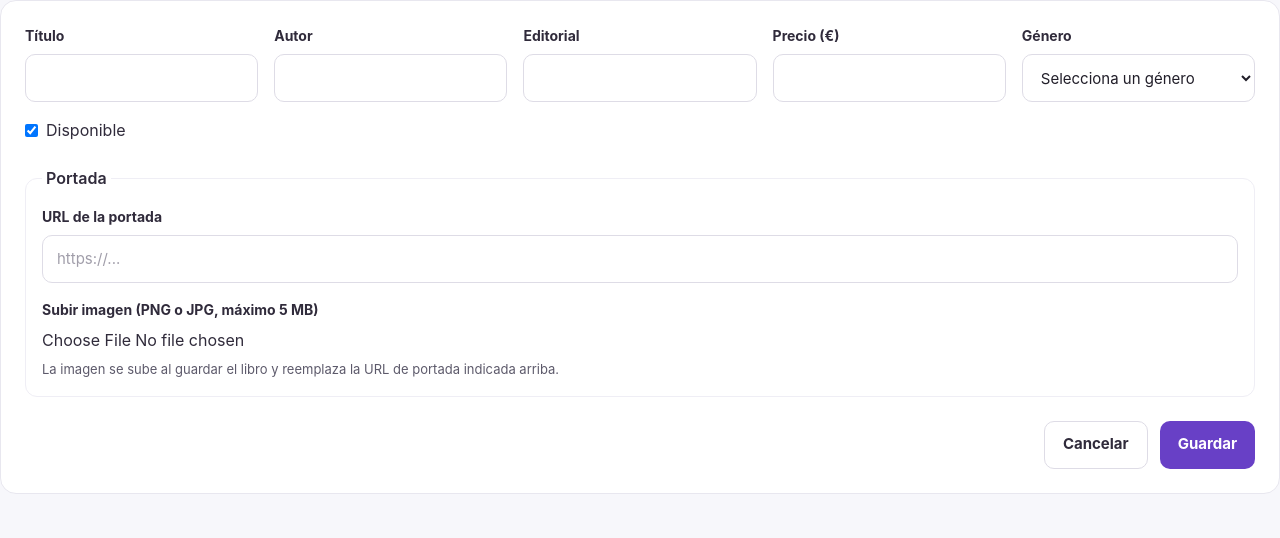
Test case: BookForm › create mode › shows inline errors for every required field when submitted empty
The image size is (1280, 538).
Click the button "Guardar" at (1207, 444), box [1160,420,1255,468]
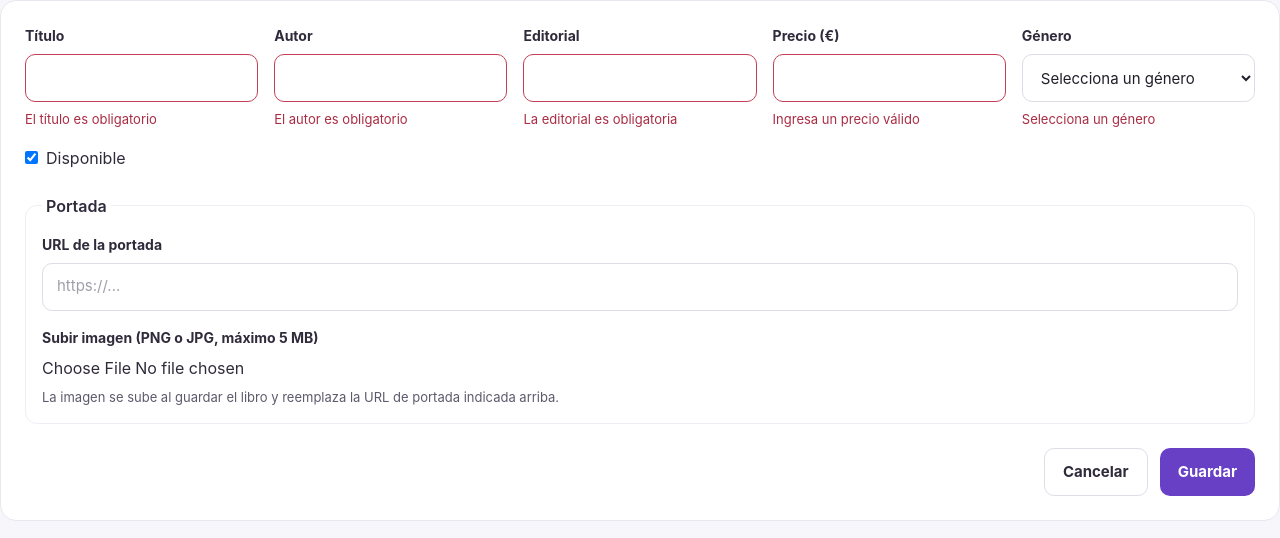
Expected: the text "El título es obligatorio" is shown, [25,111,157,127]
Expected: the text "El autor es obligatorio" is shown, [274,111,408,127]
Expected: the text "La editorial es obligatoria" is shown, [523,111,677,127]
